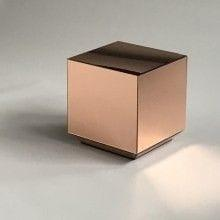cubos: (64, 38, 195, 163)
